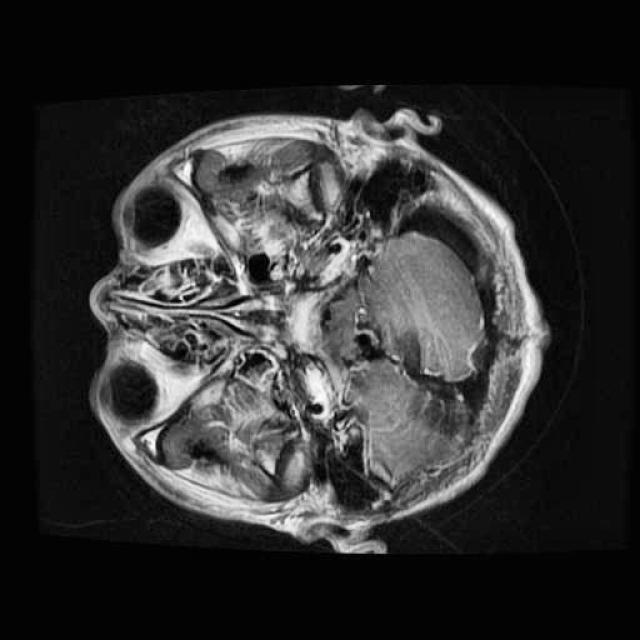Non-Tumor: (385, 318, 501, 450)
